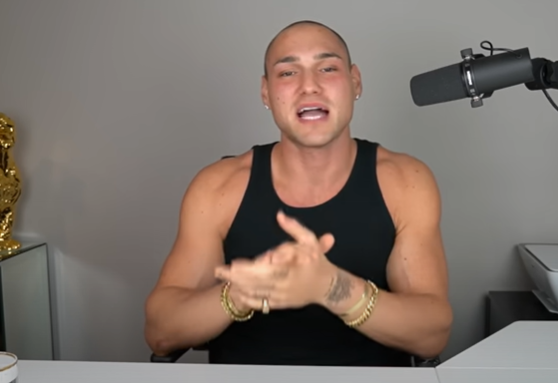person: (143, 19, 453, 366)
